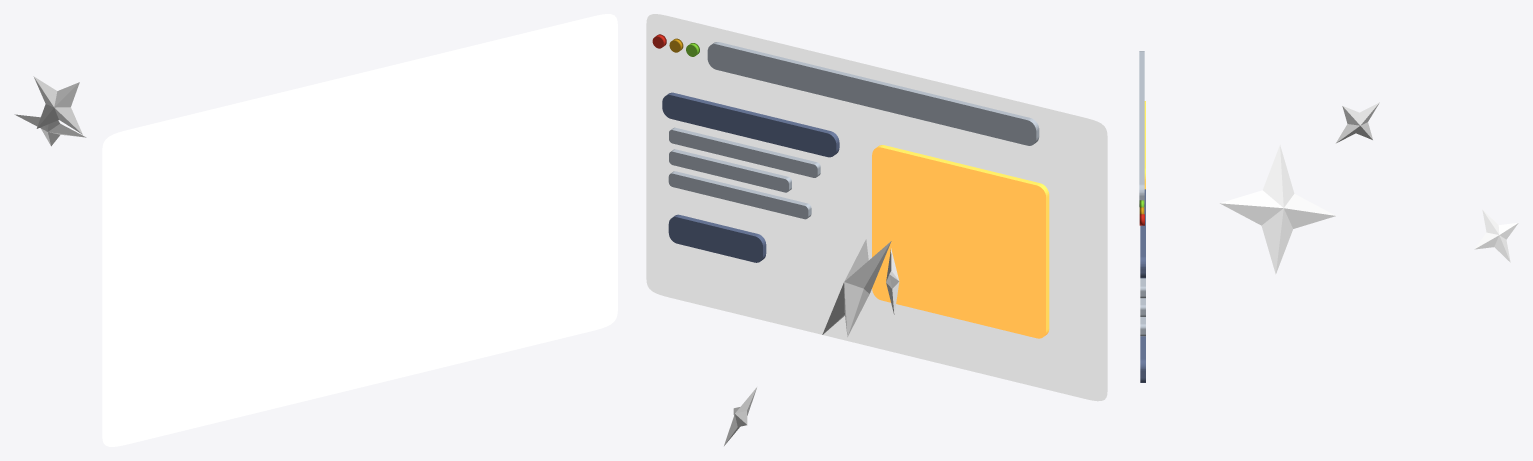
Rendered from webObject.glb.
3 views of the same model, side by side, from view 1: azimuth 30°, elevation 25°; view 2: azimuth 150°, elevation 25°; view 3: azimuth 270°, elevation 25° (orthographic). The views are drawn at different scales.
Visible parts, largest first — view 1: PC-Screen, smalll-star, small-star2; view 2: PC-Screen, glow-part-orange, search-bar, text-title, actoin-button, text-1, text-1.002, big-star, text-1.001, small-star2, smalll-star; view 3: big-star, search-bar, small-star2, smalll-star, text-title.
Boxes of the visible parts, x1,y1,x2,y2 form: PC-Screen: [102, 14, 617, 446]; smalll-star: [33, 76, 82, 134]; small-star2: [14, 114, 86, 146]; PC-Screen: [646, 14, 1107, 401]; glow-part-orange: [872, 145, 1049, 338]; search-bar: [707, 42, 1039, 145]; text-title: [662, 92, 839, 157]; actoin-button: [668, 214, 766, 262]; text-1: [669, 127, 820, 177]; text-1.002: [668, 171, 811, 219]; big-star: [822, 239, 891, 337]; text-1.001: [669, 149, 791, 192]; small-star2: [724, 387, 756, 445]; smalll-star: [886, 248, 899, 314]; big-star: [1220, 145, 1335, 274]; search-bar: [1139, 51, 1144, 206]; small-star2: [1474, 210, 1518, 262]; smalll-star: [1335, 102, 1379, 143]; text-title: [1140, 189, 1145, 278].
Bounding box in the file's own units: 0.7289 × 0.4248 × 0.6009.
